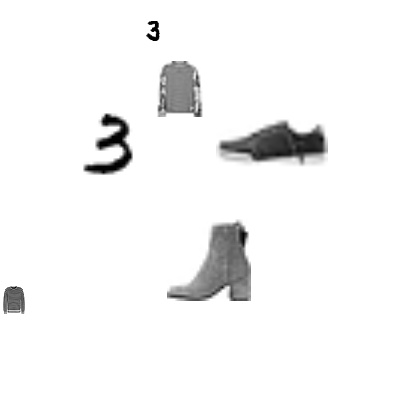3: (69, 105, 153, 189), (140, 17, 168, 45)
Ankle_boot: (167, 217, 251, 301)
Pullover: (152, 61, 208, 117), (0, 286, 28, 314)
Sneaker: (216, 85, 328, 197)
